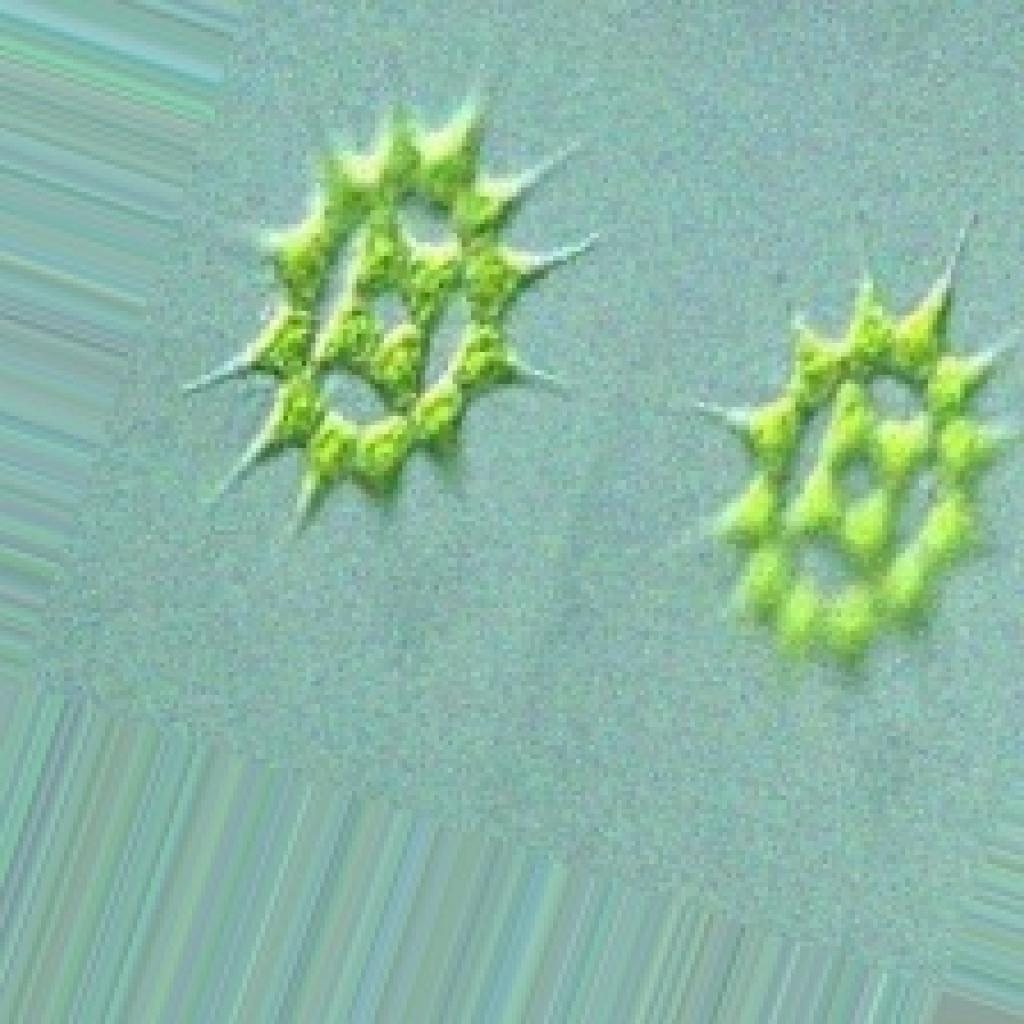Microalgae: (178, 82, 599, 535), (690, 210, 1020, 672)
